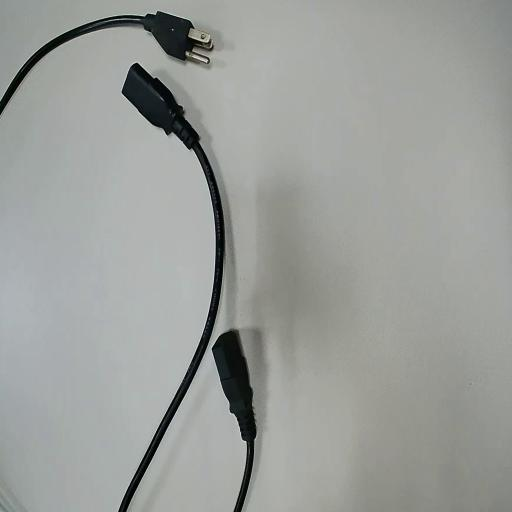wire: (120, 64, 224, 511), (0, 13, 201, 112), (213, 330, 255, 511)
